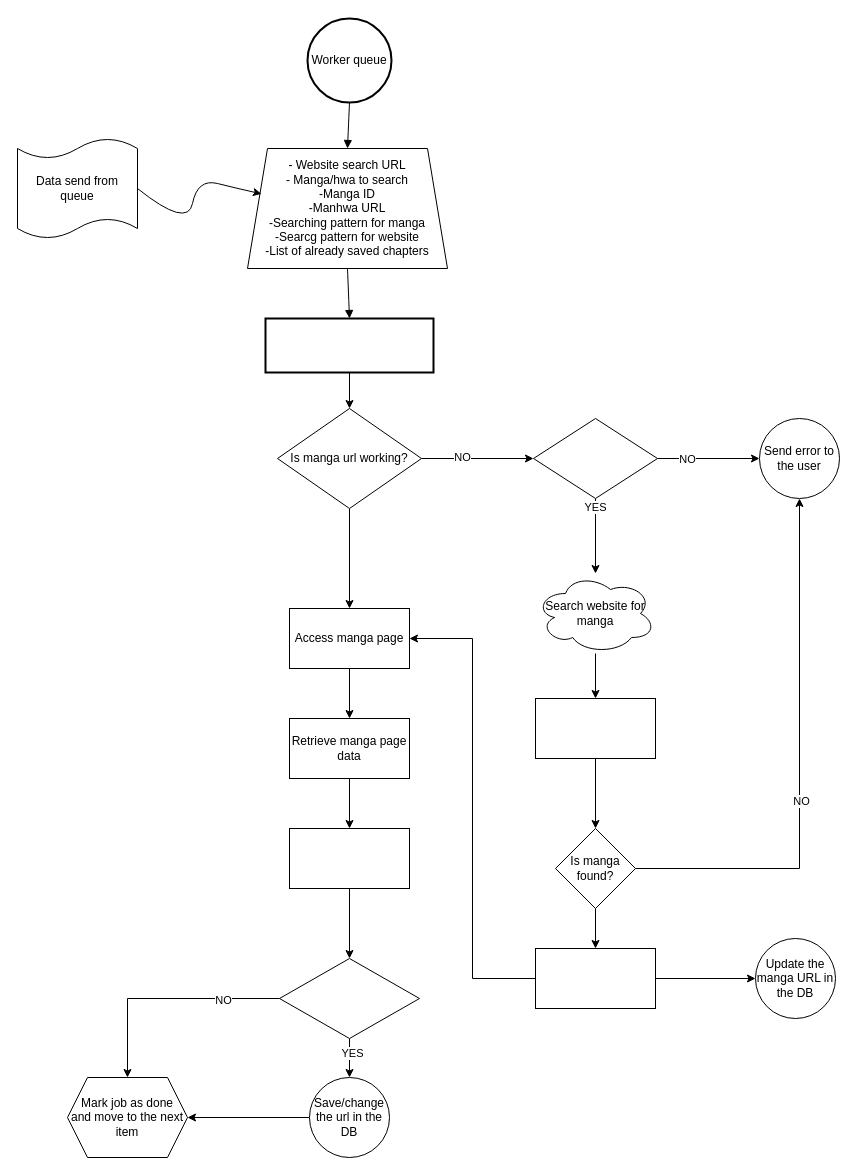
Image size: 857x1175. Some labels were removed from this diagram. The centre of each missing label's shape, as x and y in pixels:
"Extract chapters" goes at (x=349, y=858).
"Extract from data the manhwa" goes at (x=595, y=728).
"Extract the manga URL" goes at (x=595, y=978).
"Is chapter URL different/new?" goes at (x=349, y=998).
"Is website url working/valid?" goes at (x=595, y=458).
"Worker Process" goes at (x=349, y=345).
